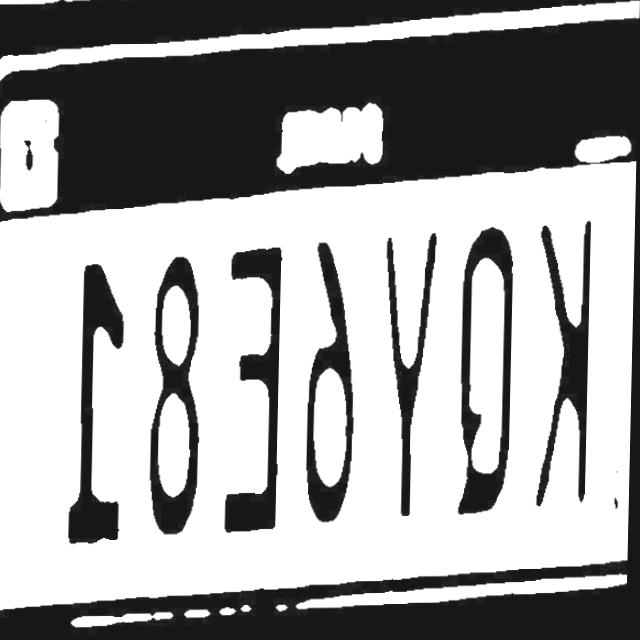1: (57, 255, 135, 549)
6: (291, 225, 366, 533)
8: (136, 233, 213, 539)
e: (205, 225, 299, 543)
k: (520, 218, 610, 527)
q: (450, 218, 527, 528)
y: (368, 225, 447, 533)
